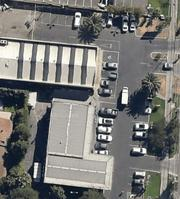parkingspot: (34, 6, 138, 34), (93, 101, 118, 158), (28, 0, 133, 13), (128, 105, 151, 156), (98, 49, 120, 97), (126, 167, 146, 194)
